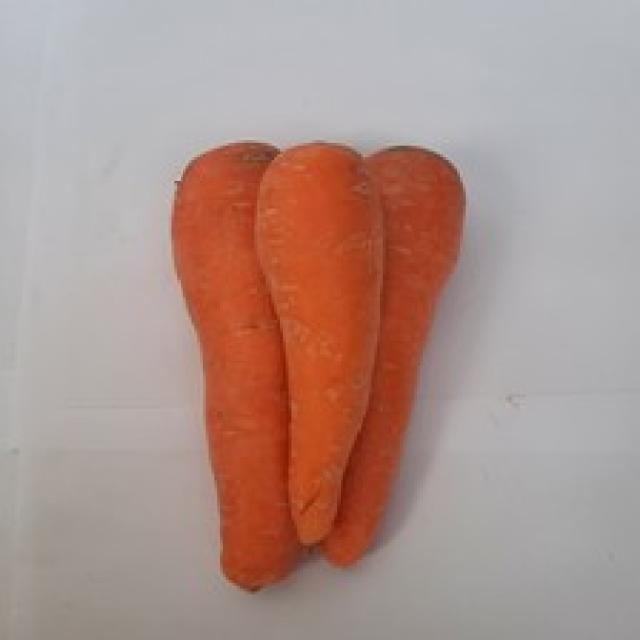Fresh_Carrot: (329, 139, 490, 640), (246, 110, 391, 610), (151, 128, 288, 640)
